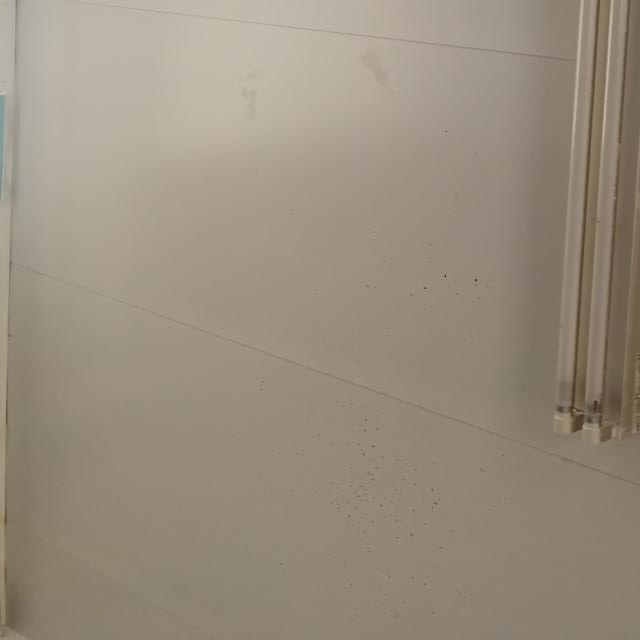fluorescent tube: (506, 0, 640, 458)
